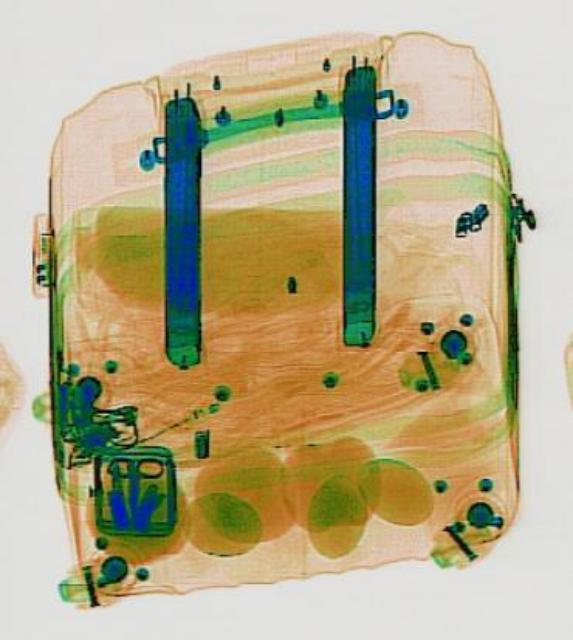Scissors: (104, 454, 161, 522)
